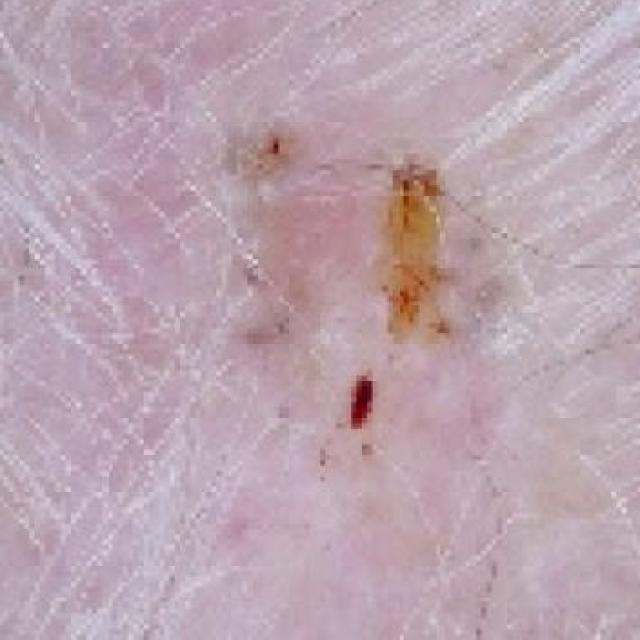BCC: (216, 109, 568, 523)
